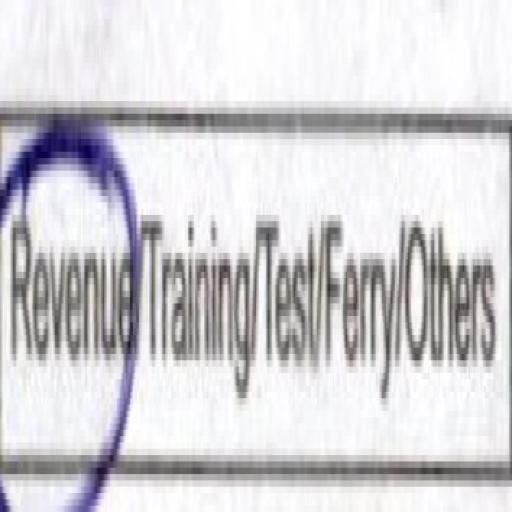check: (0, 50, 137, 512)
